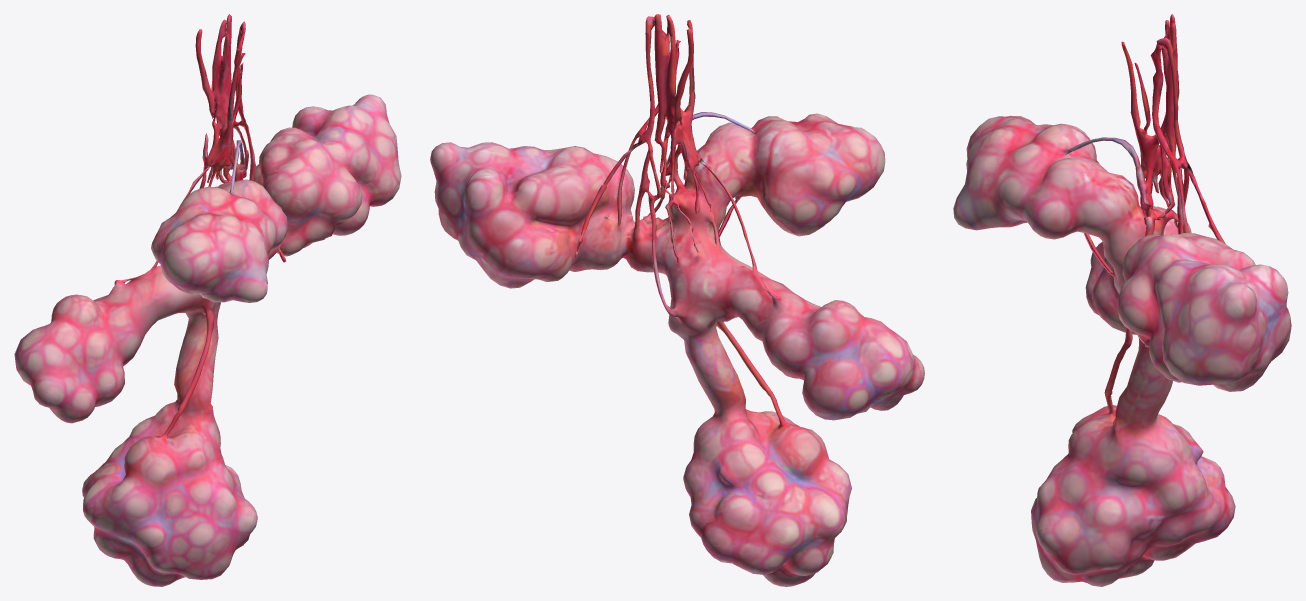
File: alveolus.glb
The picture shows the model from 3 angles, left to right: view 1: azimuth 30°, elevation 25°; view 2: azimuth 150°, elevation 25°; view 3: azimuth 270°, elevation 25°; orthographic projection. The views are drawn at different scales.
Visible parts, largest first — view 1: Alveolus; view 2: Alveolus; view 3: Alveolus.
Part boxes in pixels (<box>): Alveolus: <box>14,14,401,586</box>; Alveolus: <box>430,14,924,586</box>; Alveolus: <box>953,14,1291,586</box>.
Size of the model in its own units: 0.1714 by 0.2126 by 0.1065.
1 material, 1 textured.
